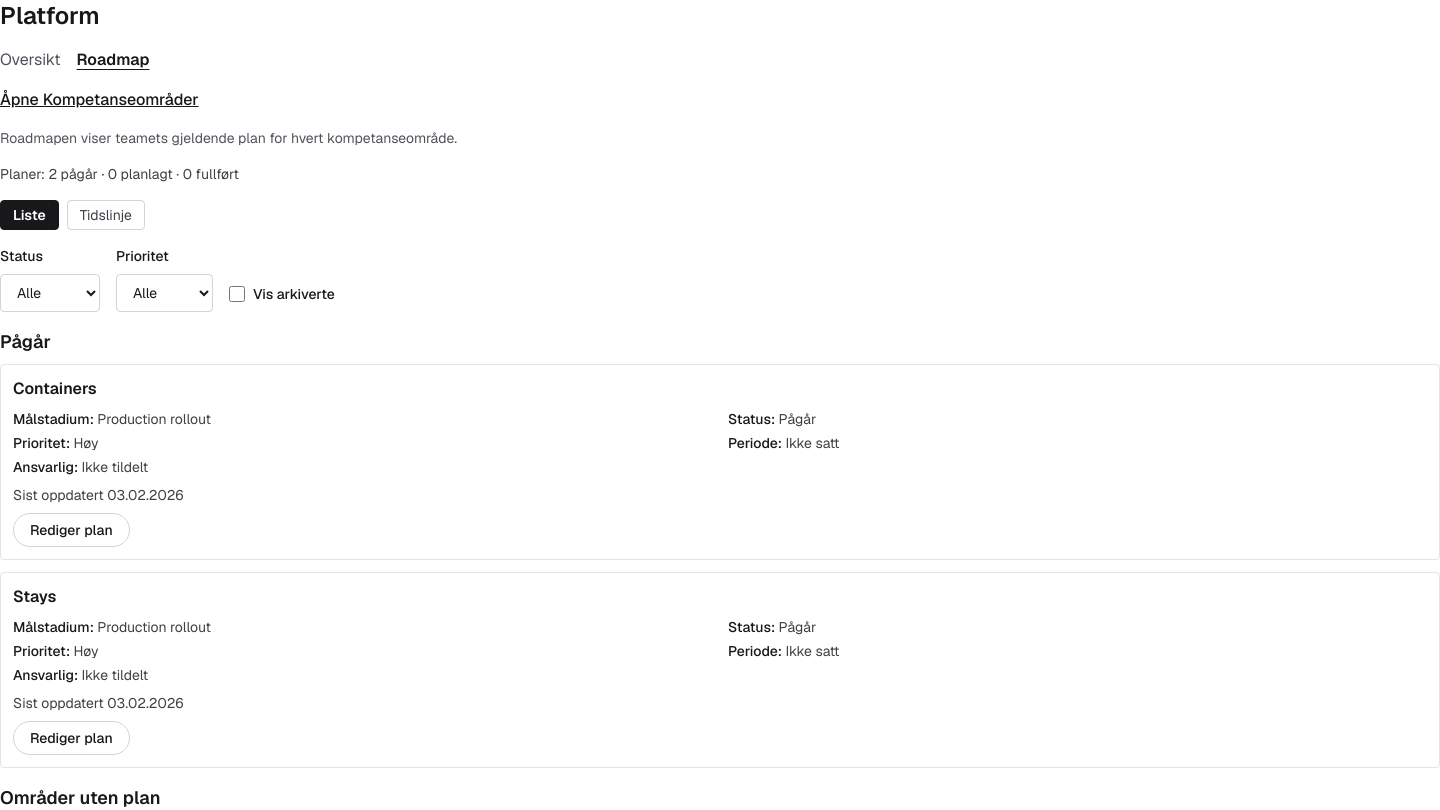
Scenario: Roadmap page editing — successful write and canonical refetch › archives through the editor: hidden with Vis arkiverte off, under Arkiverte with it on, no extra GET kind
expect the heading "Stays" is shown: met, box left=13, top=586, right=56, bottom=607
Click the checkbox labelled "Vis arkiverte" at {"x": 237, "y": 294}, box left=229, top=286, right=245, bottom=302
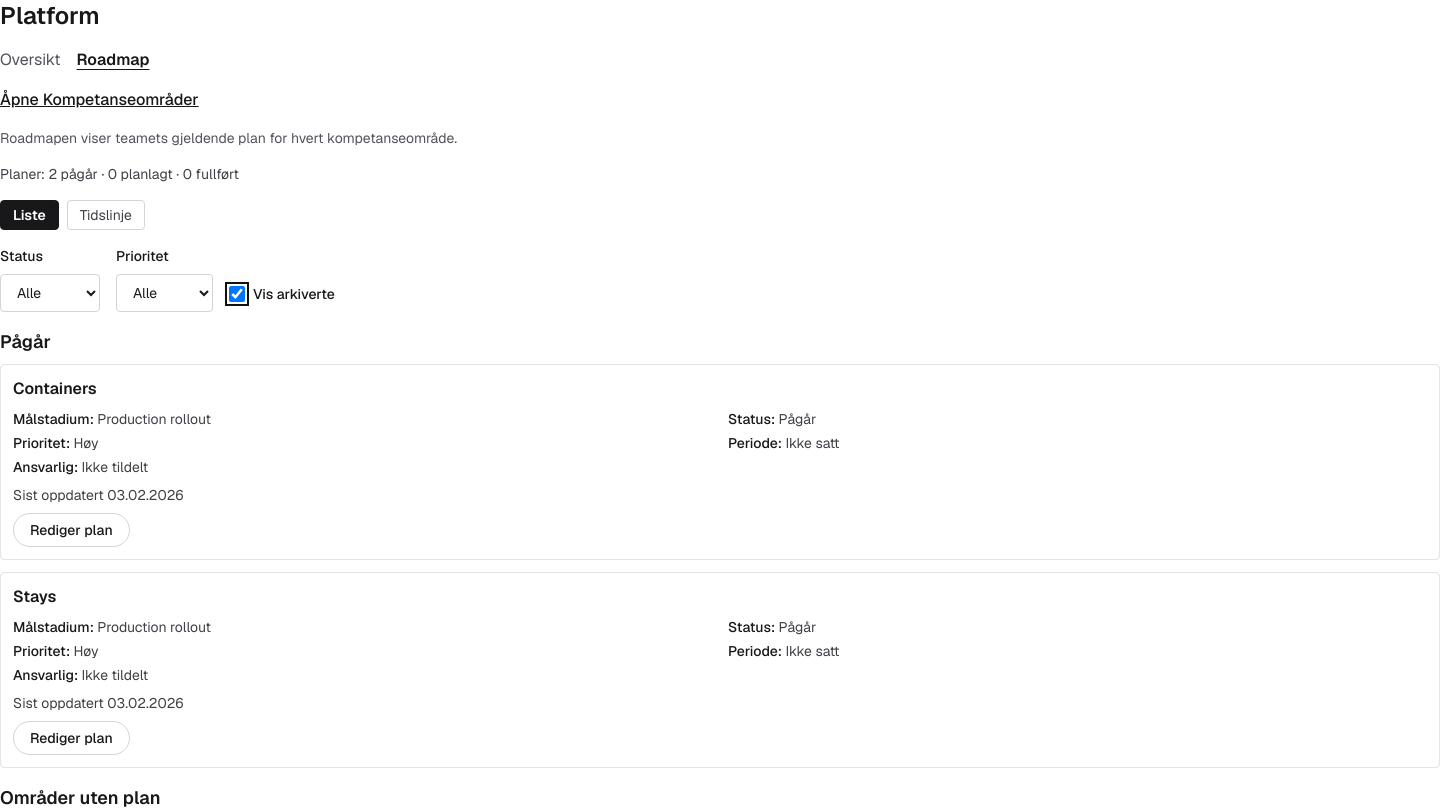
Click the button with aria-label "Rediger plan – Containers" at {"x": 71, "y": 530}, box left=13, top=513, right=130, bottom=547
(page scrolled)
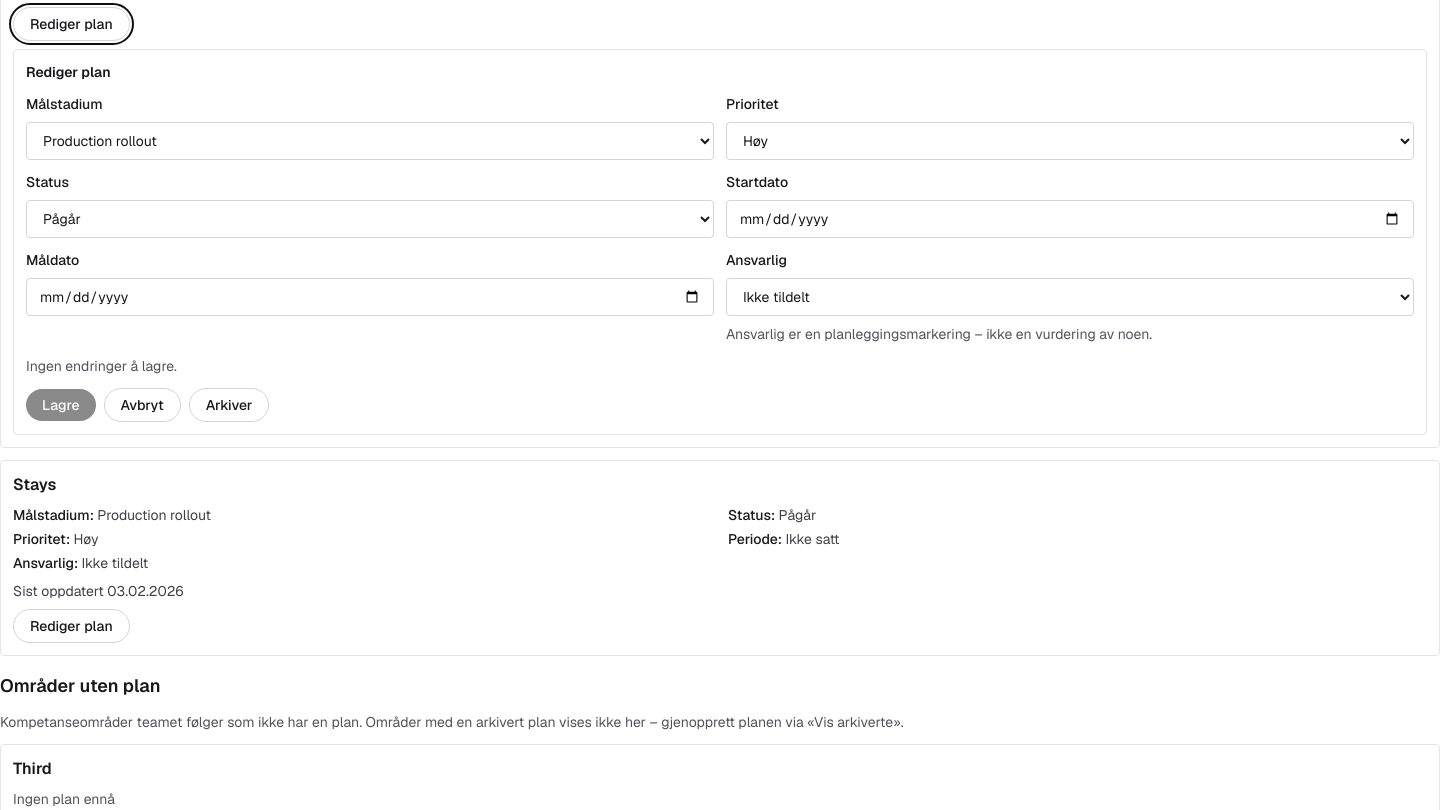
Click the button "Arkiver" at {"x": 229, "y": 405}, box left=189, top=388, right=269, bottom=422
(page scrolled)
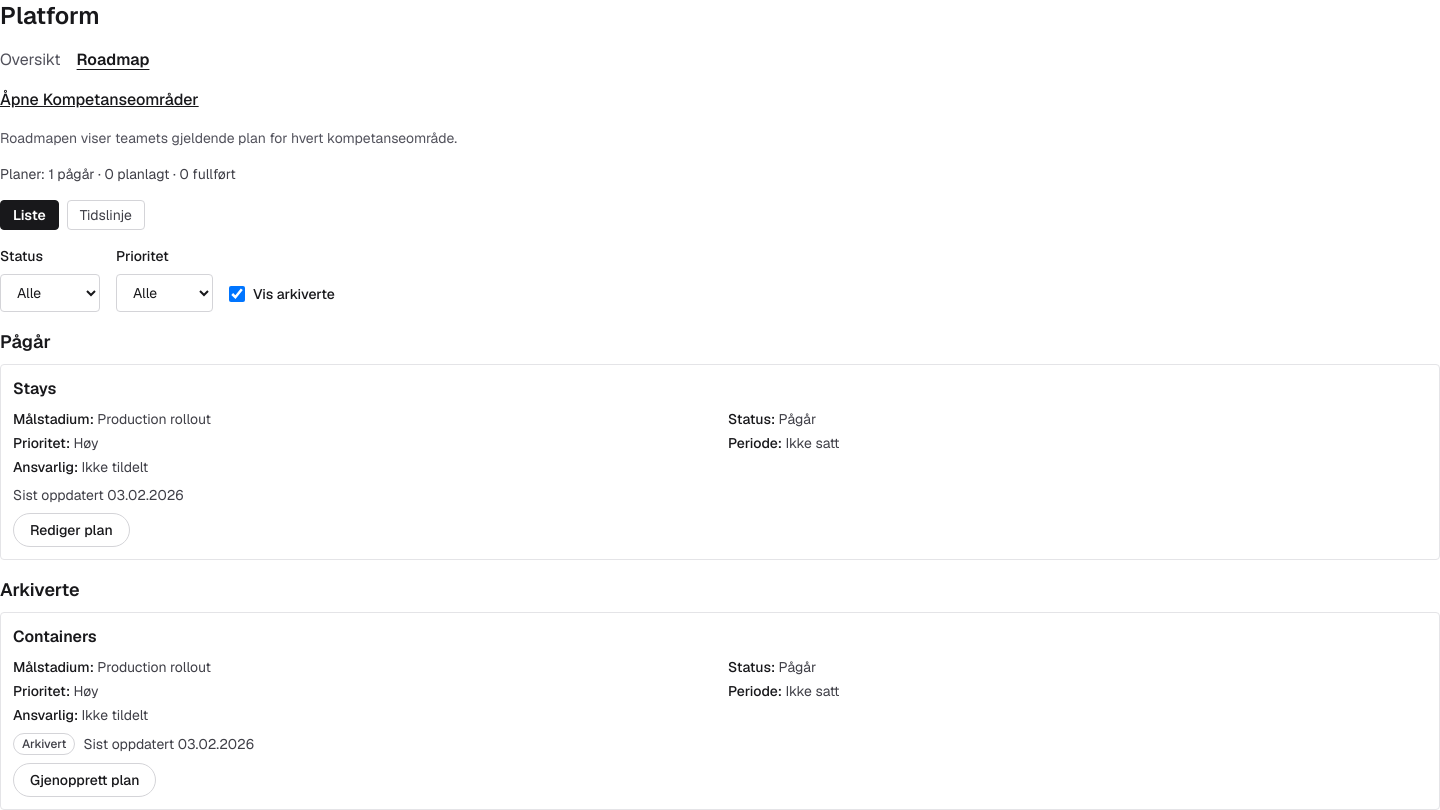
expect the heading "Containers" is shown: met, box left=13, top=626, right=97, bottom=647
Click the checkbox labelled "Vis arkiverte" at {"x": 237, "y": 294}, box left=229, top=286, right=245, bottom=302
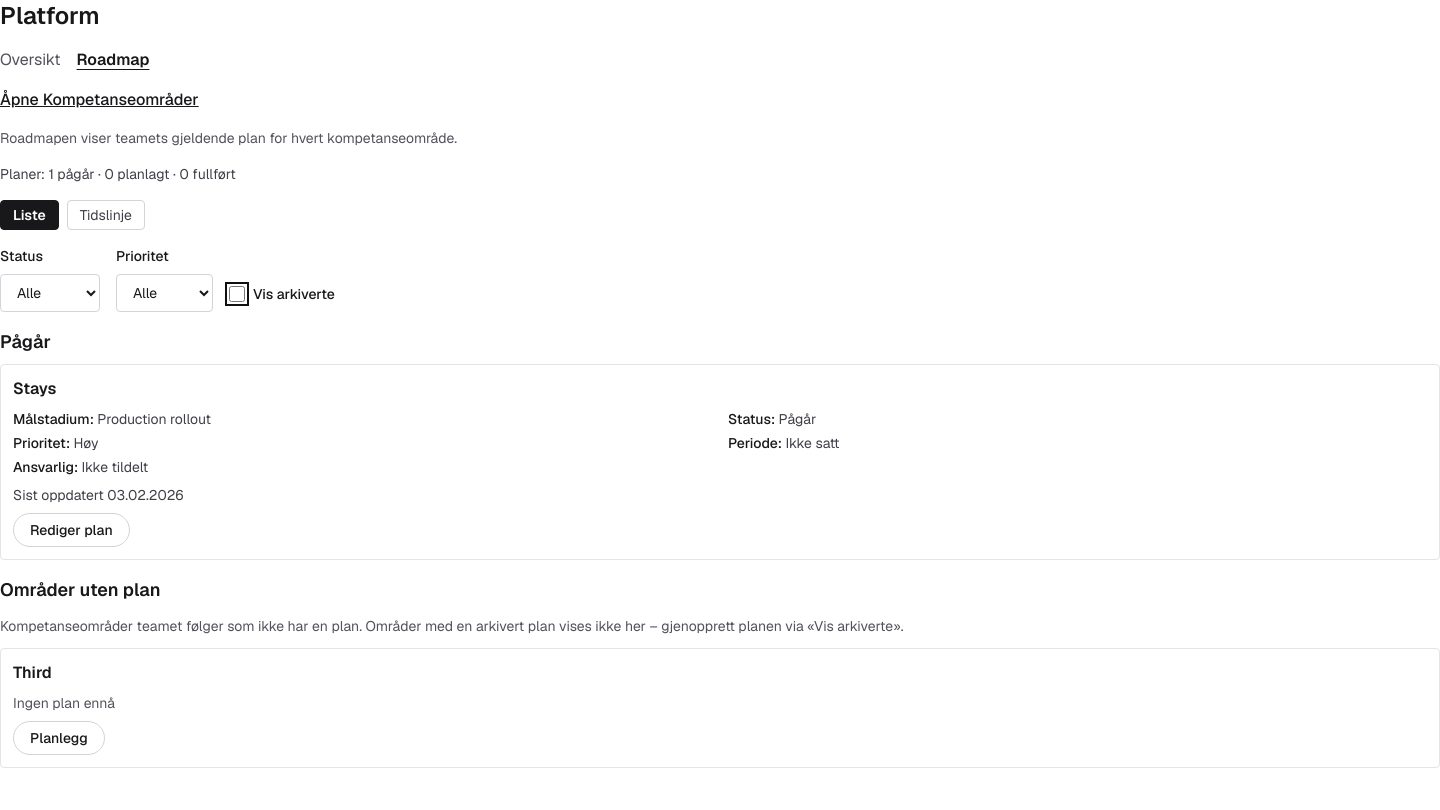
expect the heading "Containers" is gone: met
